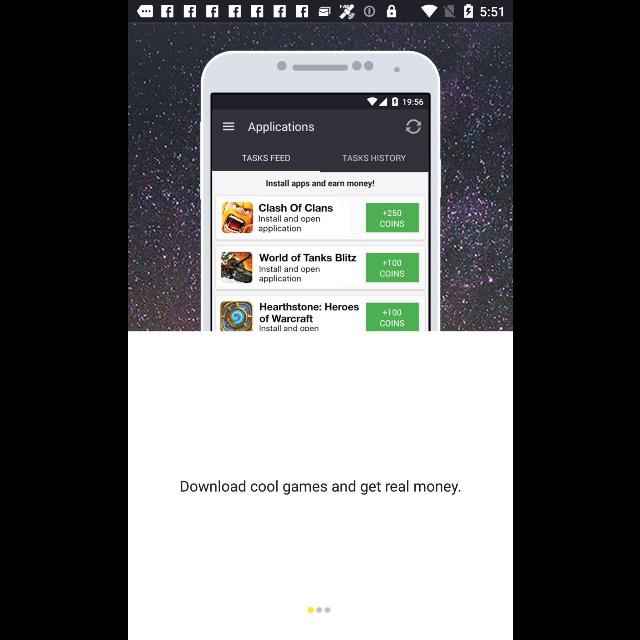image: (128, 23, 512, 331)
pageindicator: (307, 606, 331, 614)
text: (180, 480, 460, 494)
uppertaskbar: (128, 1, 512, 23)
